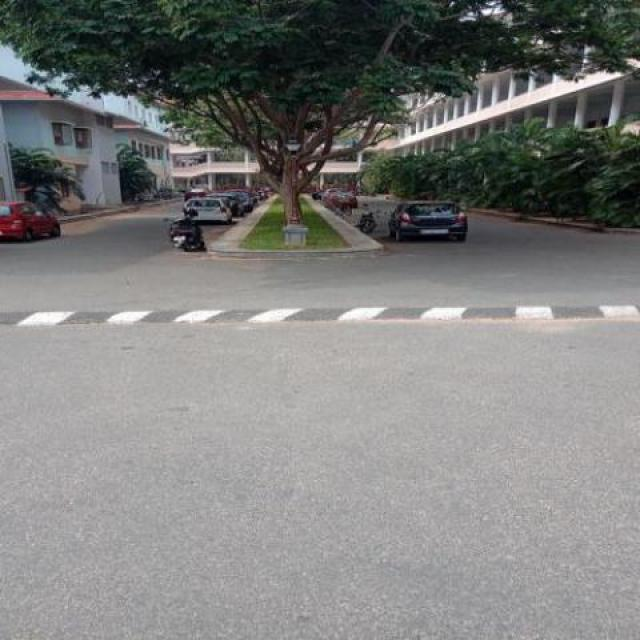Speed Bump: (2, 305, 638, 328)
